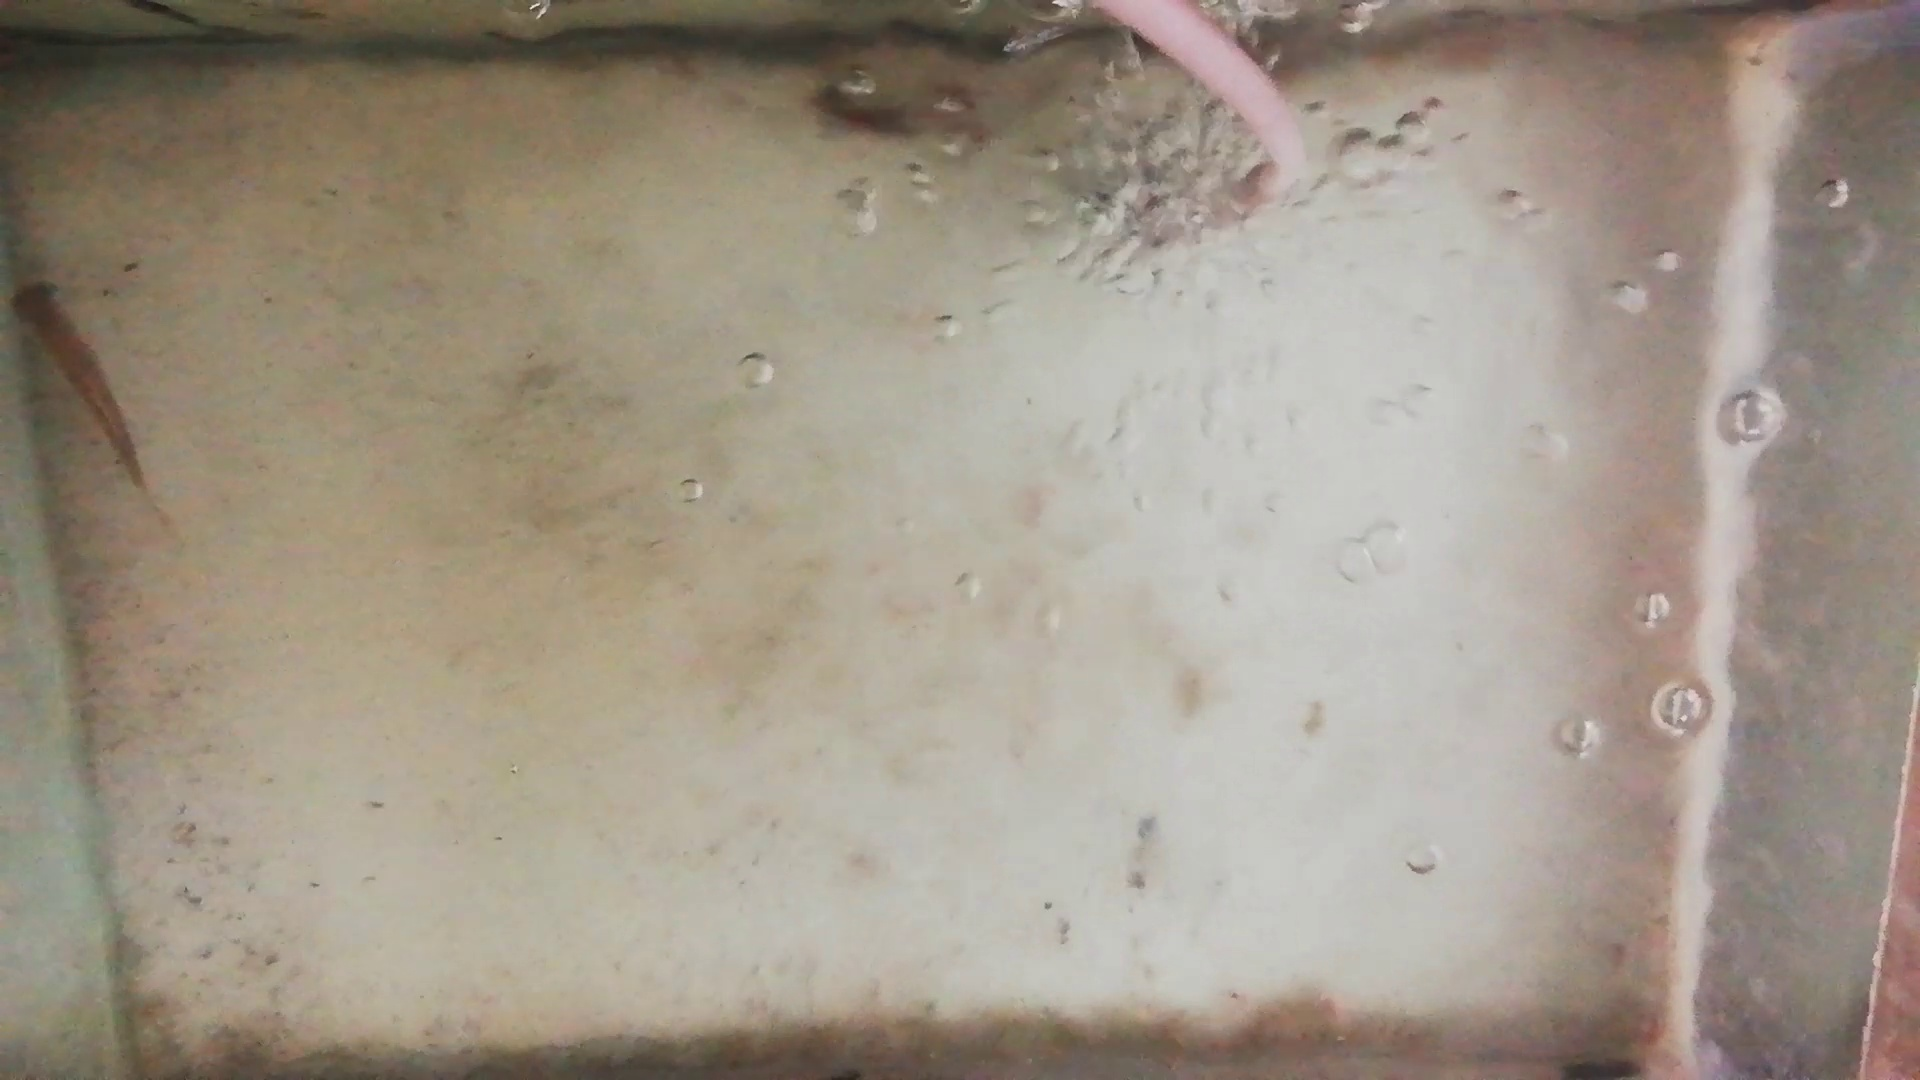fish: (7, 276, 146, 477), (799, 79, 986, 152)
